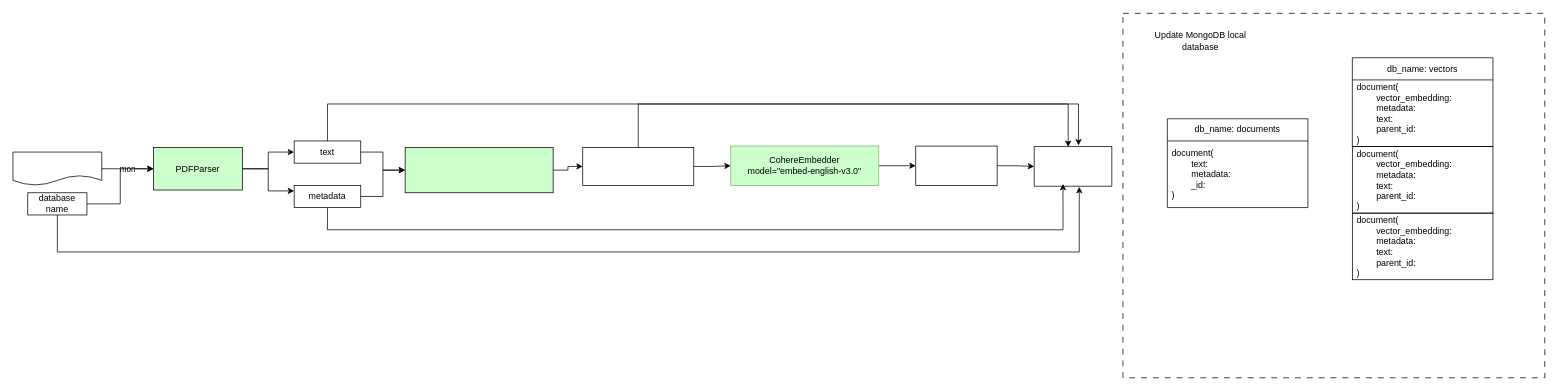
This 1558x391 diagram has some shape labels left out. The shapes that lost their labels are listed below. From the top down, each one's centre as x and y in pixels, then its label:
At point (57, 168): "PDF document".
At point (478, 170): "ApproximateChunkerWithOverlap chunk_size=512 chunk_overlap=128".
At point (638, 166): "chunk list (enhanced with metadata)".
At point (956, 165): "vector (list of floats) list".
At point (1072, 166): "MongoDBHandler".
